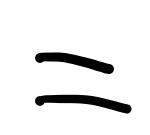eqv: (36, 52, 131, 114)
